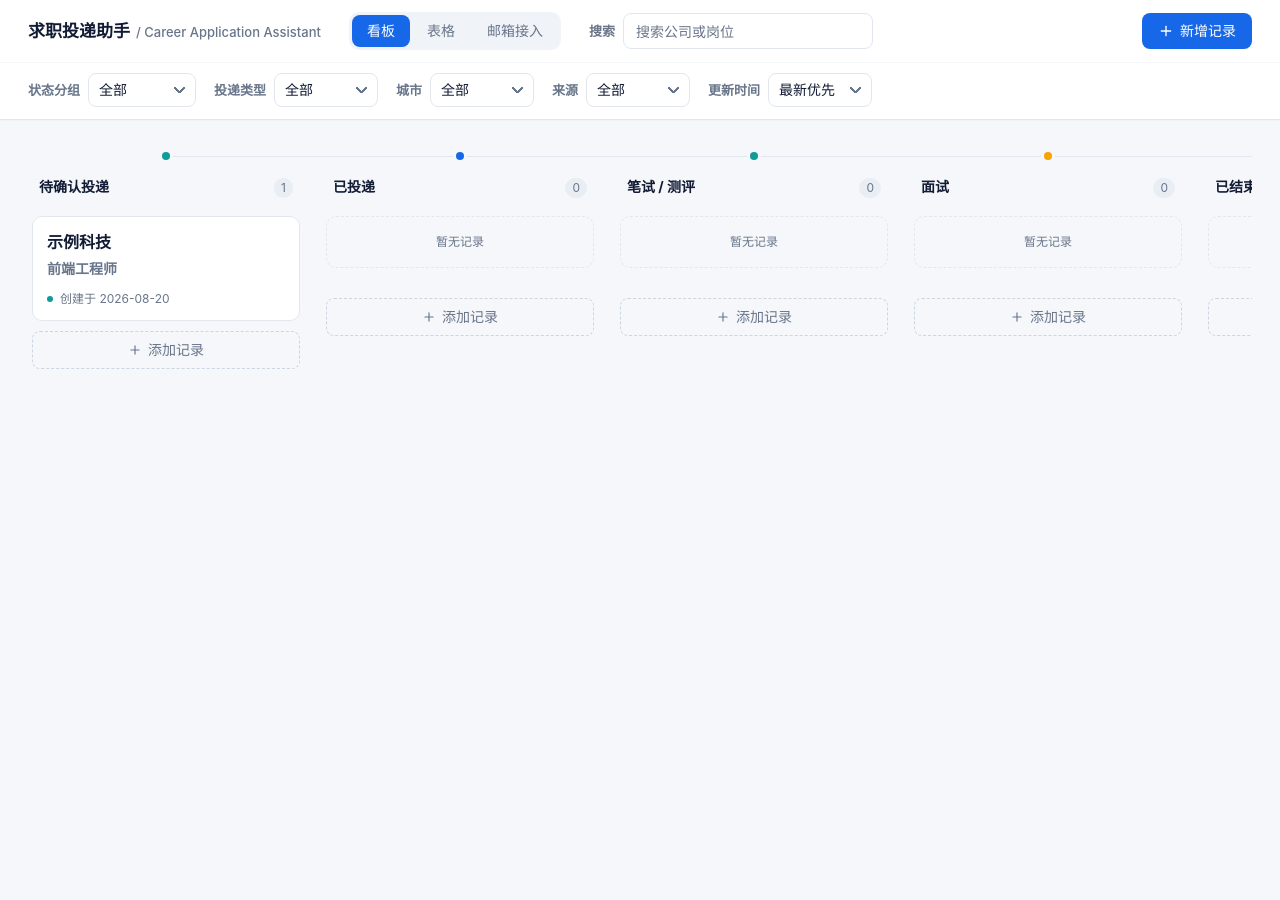
Test: App 核心交互 › 写操作失败：显示带后端 message 的 Toast，卡片回滚到原列
Press the mouse on the button with test id "board-card-1" at (79, 242), box [32, 216, 300, 321]
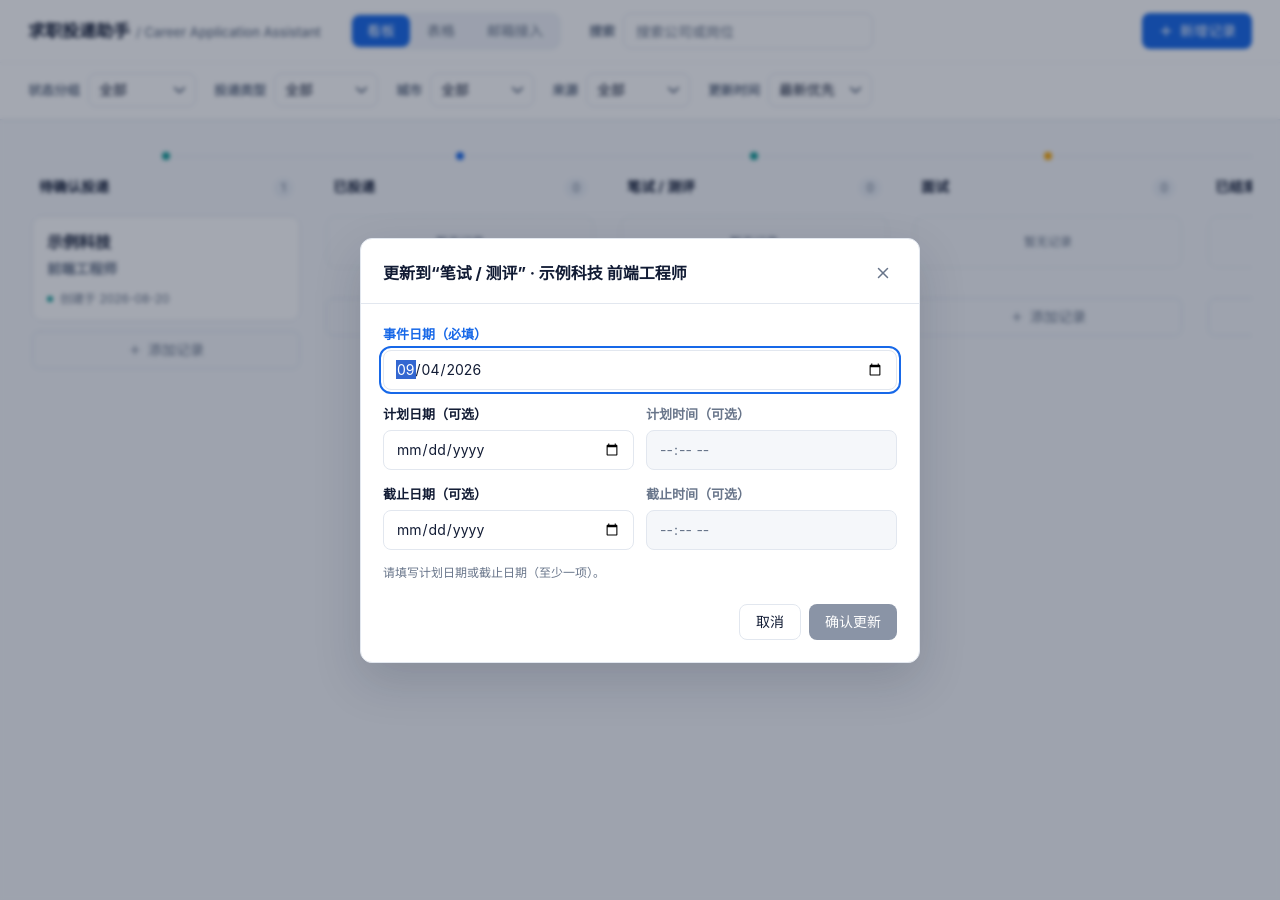
Expected: the dialog shows "计划日期", [383, 406, 435, 422]
Type "2026-09-01" into the date field with test id "status-form-scheduled-date" at (508, 450), box [383, 430, 634, 470]
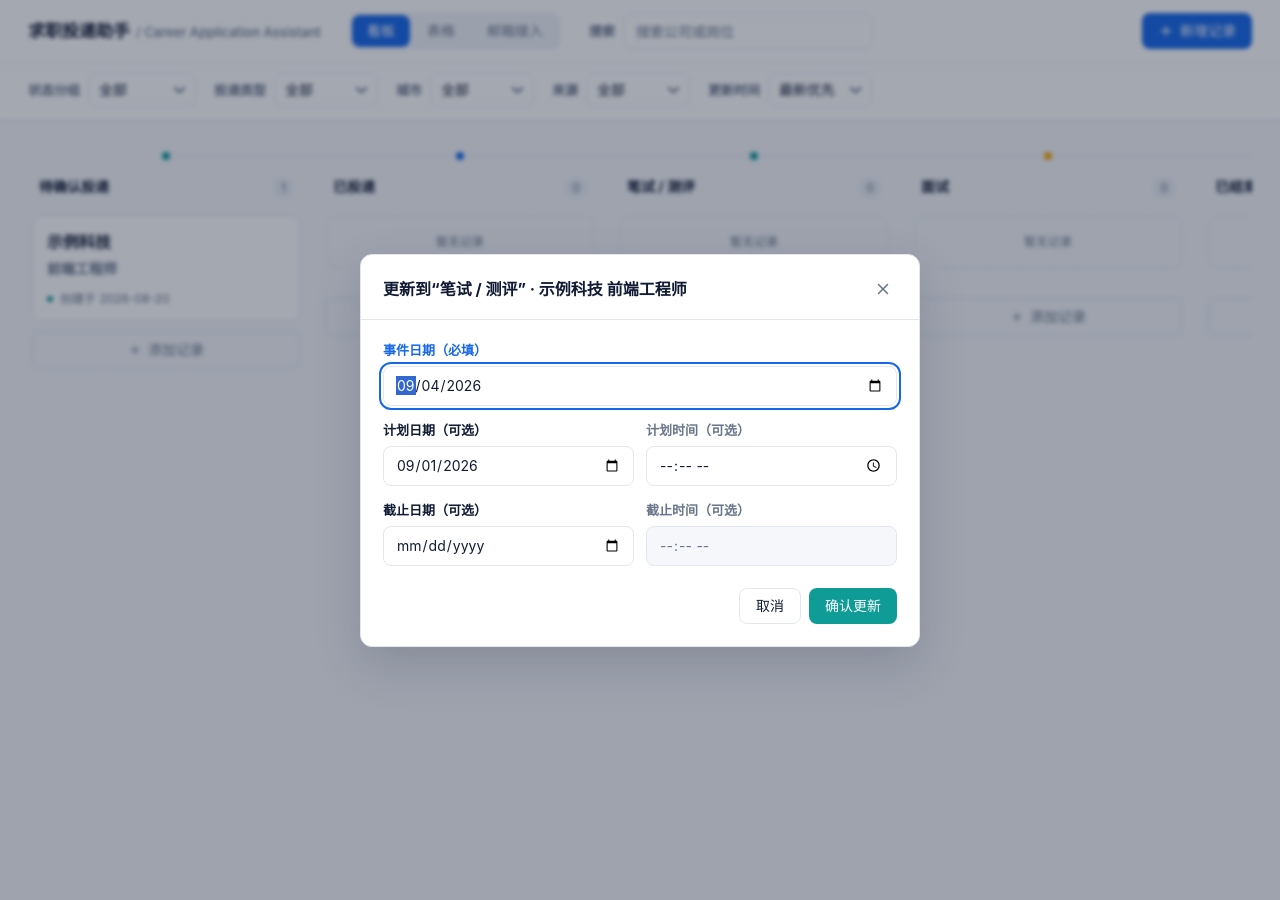
Click the button with test id "status-form-submit" at (853, 606), box [809, 588, 897, 624]
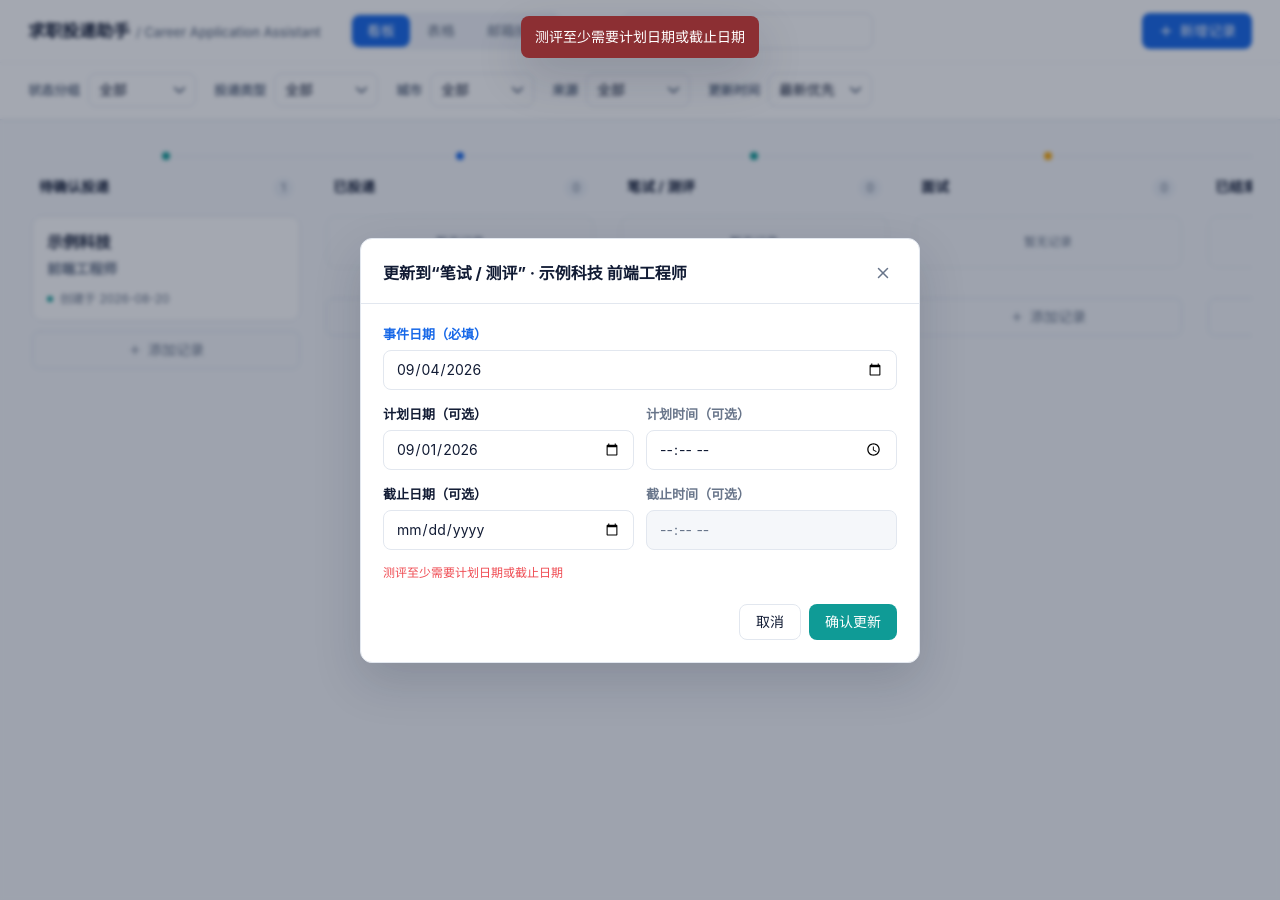
Expected: the message with test id "status-form-error" reads "测评至少需要计划日期或截止日期", [383, 564, 563, 580]
Click the button "取消" at (770, 622), box [739, 604, 801, 640]
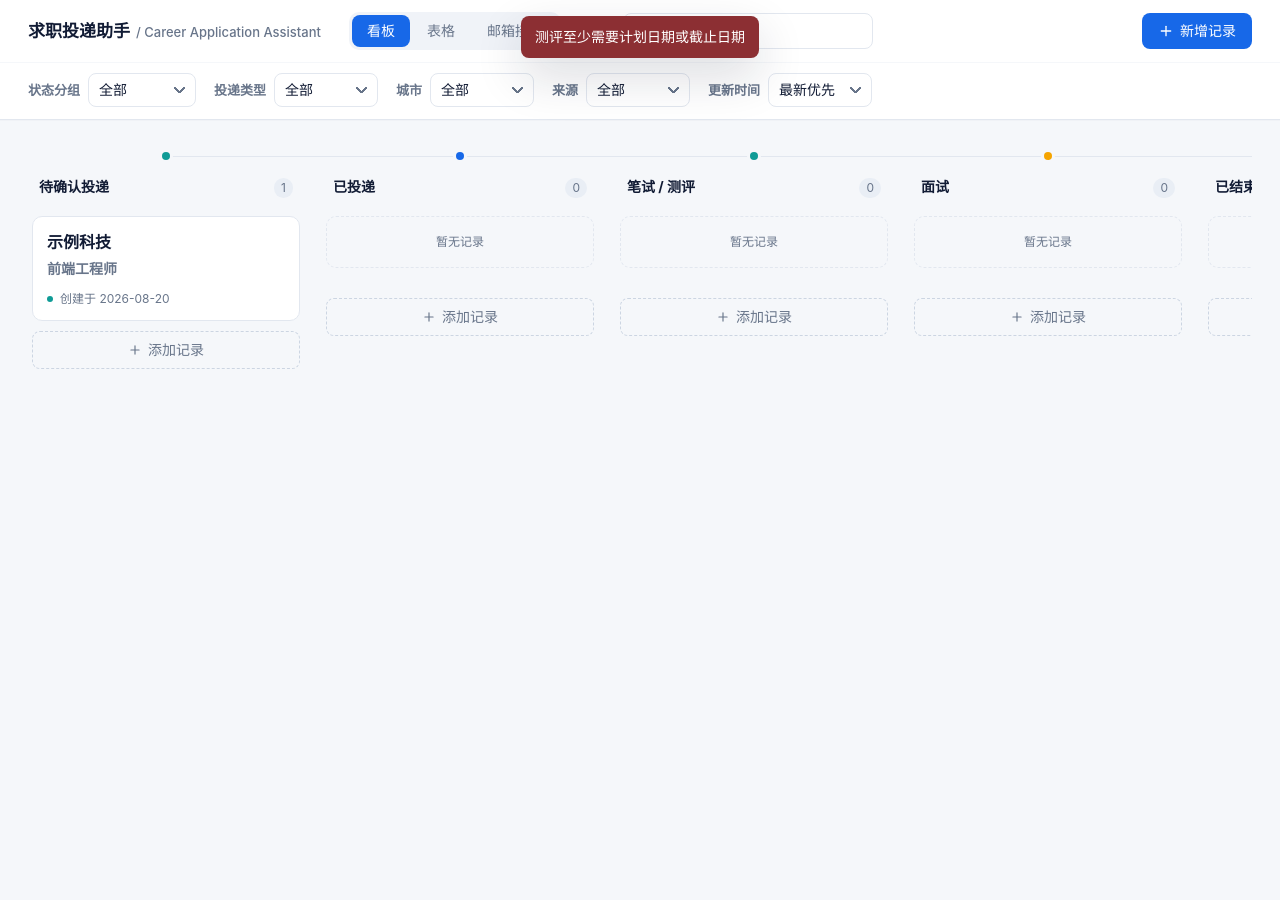
Expected: the element "待确认投递" shows "示例科技", [47, 232, 111, 252]
Expected: the dialog is gone
